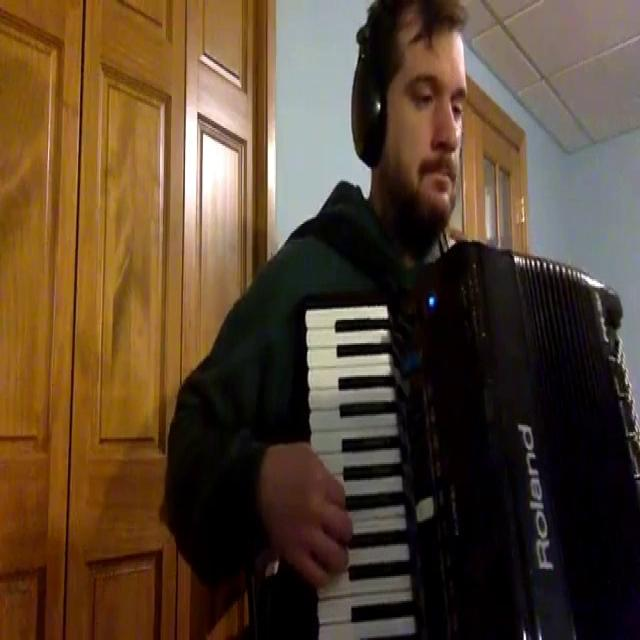Accordion: (293, 243, 640, 640)
